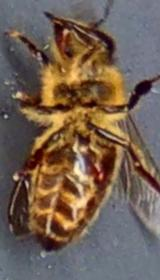varroa_mite: (86, 149, 112, 186)
